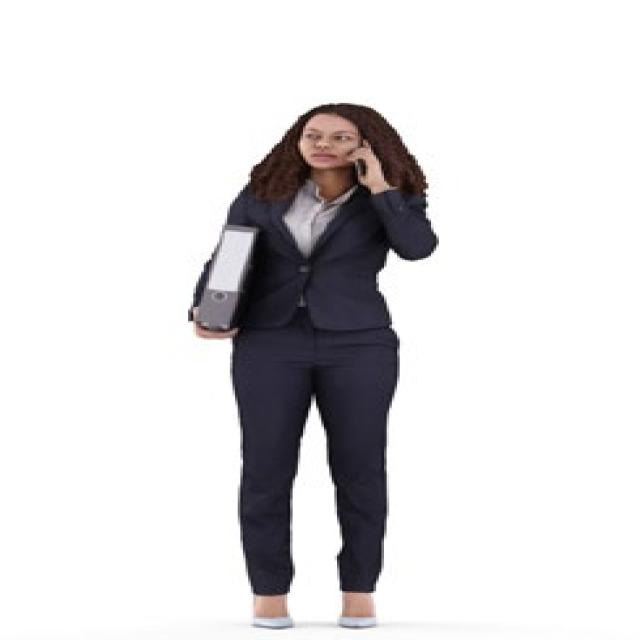standing: (179, 97, 447, 628)
